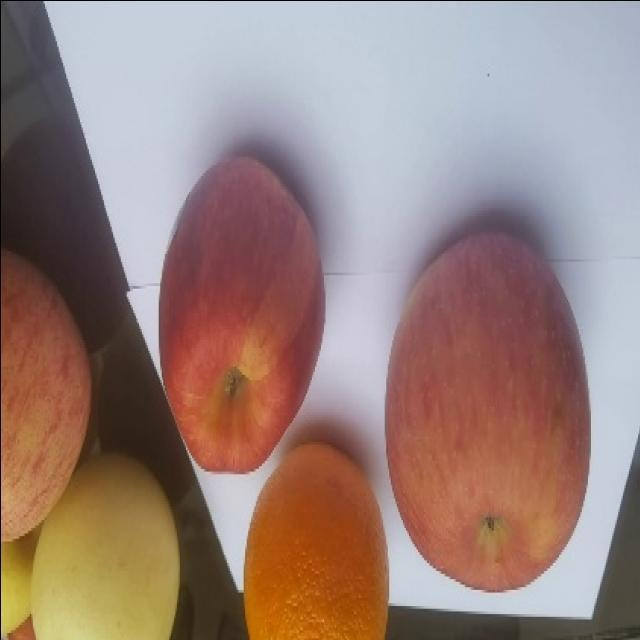Apple: (384, 230, 591, 592), (157, 154, 326, 473), (0, 247, 93, 542)
Orange: (242, 440, 389, 639)
